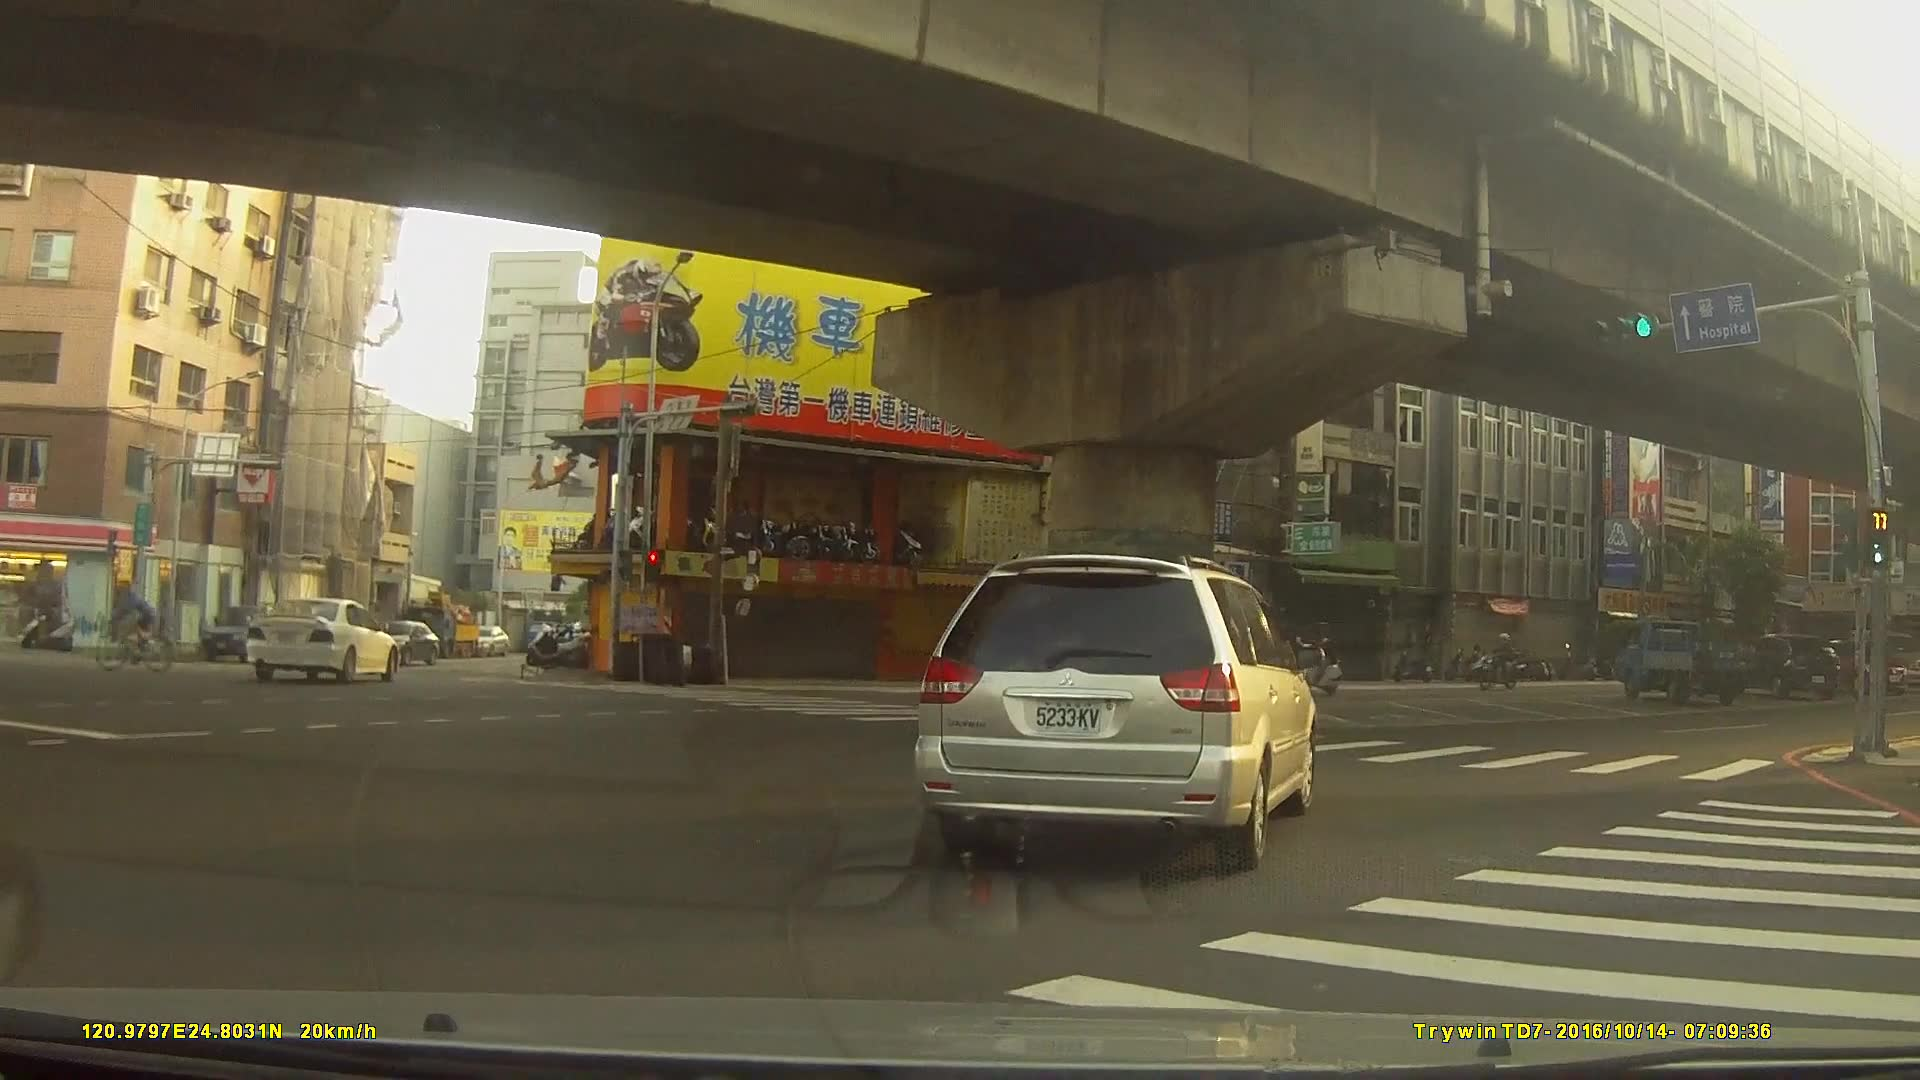rider: (86, 579, 182, 675), (1284, 619, 1342, 699), (1473, 635, 1527, 691)
vehicle: (909, 550, 1316, 865), (243, 595, 399, 683), (1613, 618, 1756, 705), (1728, 631, 1844, 697), (202, 602, 292, 663), (367, 620, 440, 665), (466, 626, 506, 657)
